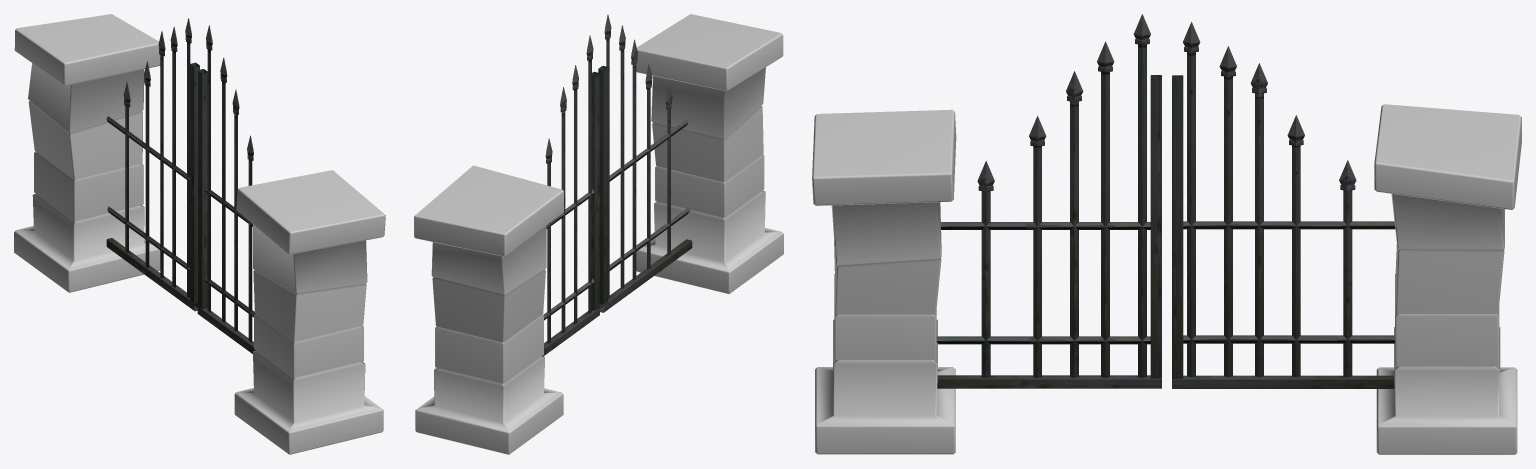
Rendered from Gate.fbx.
3 views of the same model, side by side, from view 1: azimuth 30°, elevation 25°; view 2: azimuth 150°, elevation 25°; view 3: azimuth 270°, elevation 25° (orthographic). The views are drawn at different scales.
Visible parts, largest first — view 1: Mesh; view 2: Mesh; view 3: Mesh.
Boxes of the visible parts, x1,y1,x2,y2 form: Mesh: (14,14,385,454); Mesh: (414,14,783,454); Mesh: (812,14,1521,454).
Bounding box in the file's own units: 1.05 × 3.24 × 5.05.
